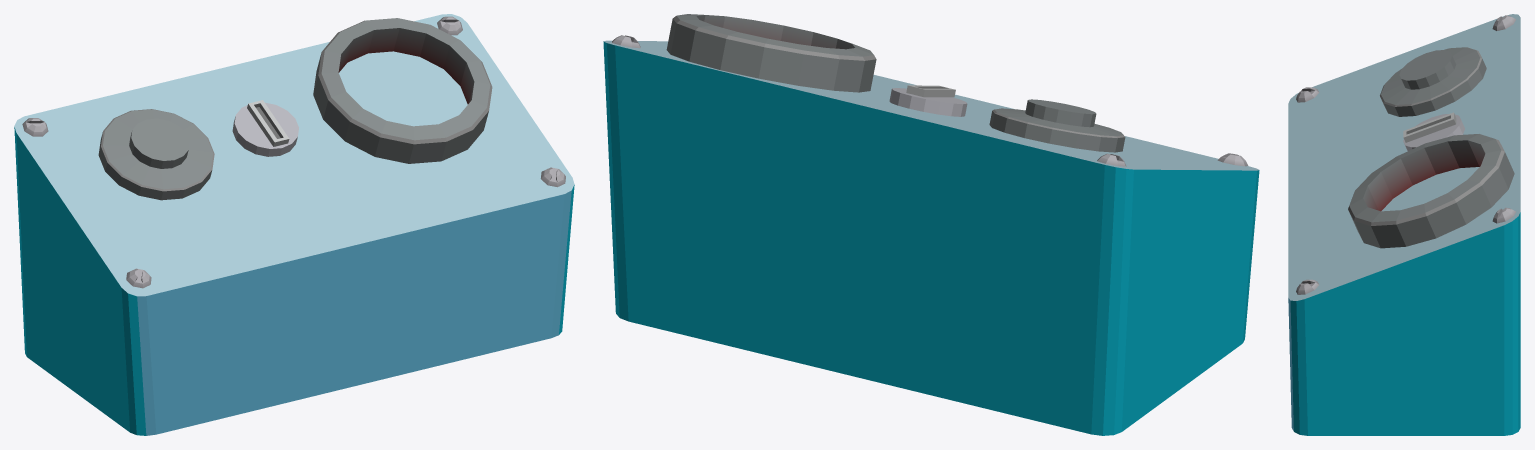
Rendered from console.glb.
3 renders of one model, left to right at view 1: azimuth 30°, elevation 25°; view 2: azimuth 150°, elevation 25°; view 3: azimuth 270°, elevation 25°, orthographic. The views are drawn at different scales.
Parts seen in each view (by area): view 1: console; view 2: console; view 3: console.
Part boxes in pixels (x1=…): console: x1=14, y1=14, x2=574, y2=435; console: x1=603, y1=14, x2=1259, y2=435; console: x1=1288, y1=14, x2=1520, y2=435.
Size of the model in its own units: 6.67 by 3.61 by 3.13.
